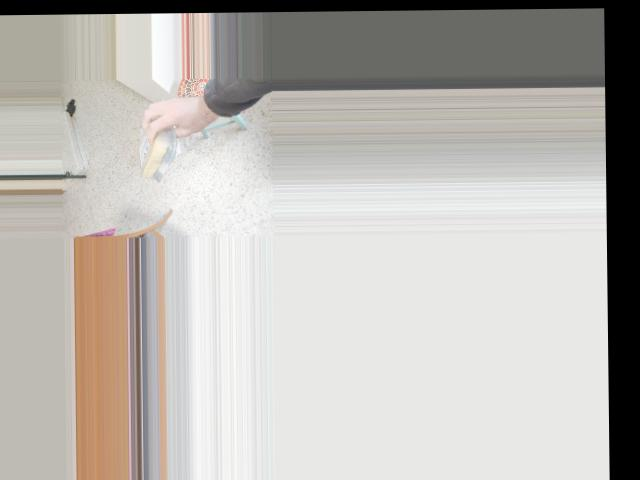cheese: (138, 116, 171, 182)
